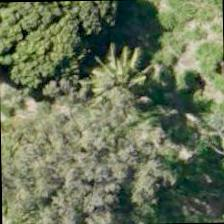Kelapa_Sawit: (75, 39, 166, 131)
